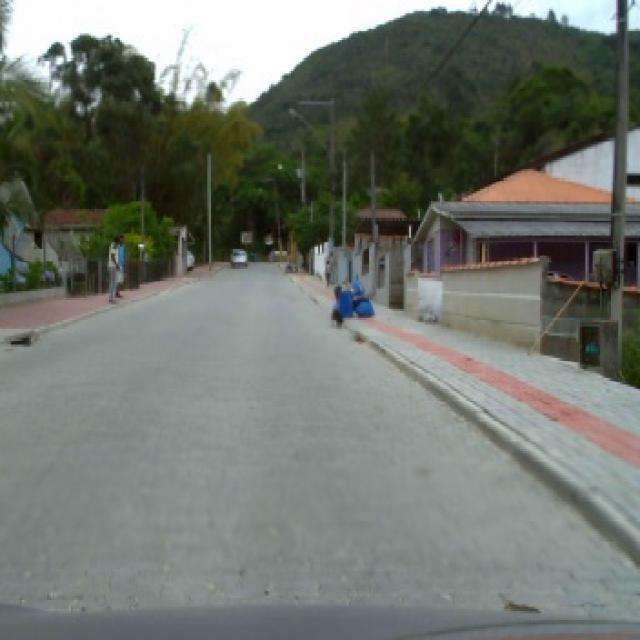Poth-hole: (5, 331, 33, 347), (350, 328, 368, 344)
